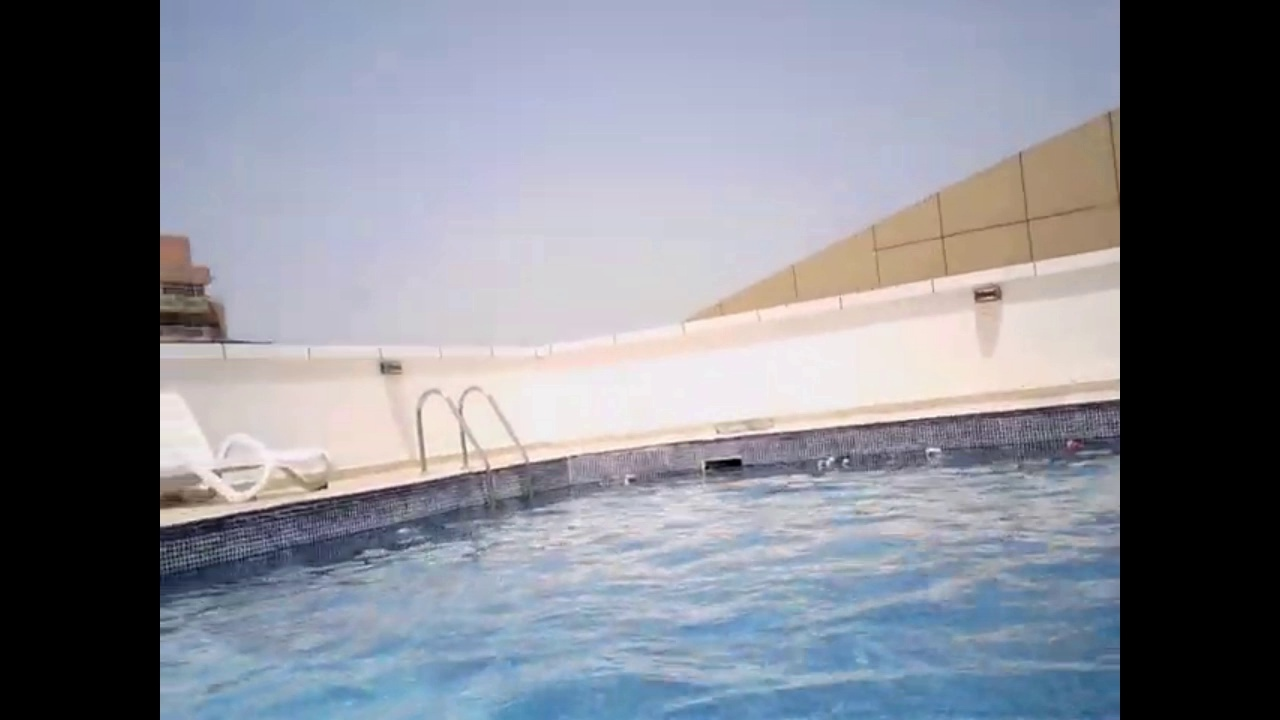debris: (921, 443, 945, 462), (1058, 438, 1088, 451), (621, 470, 641, 488), (839, 452, 855, 473), (814, 455, 833, 471)
